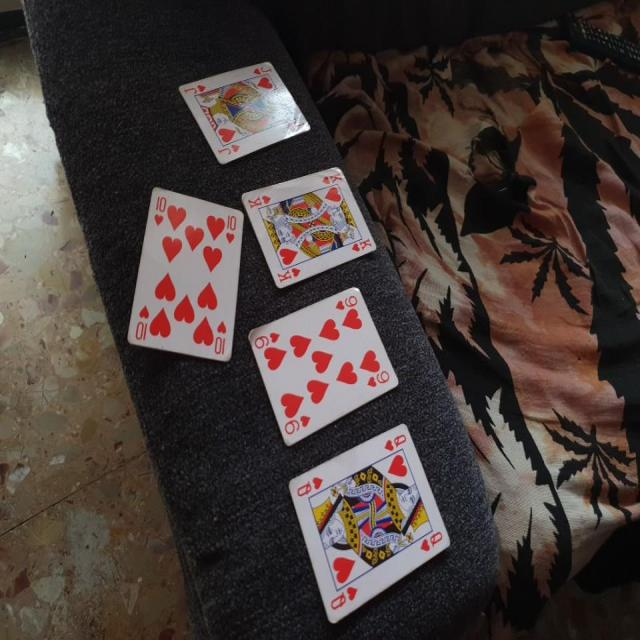10 Hearts: (119, 168, 247, 359)
9 Hearts: (242, 285, 412, 456)
J Hearts: (170, 53, 311, 170)
K Hearts: (239, 165, 380, 292)
Q Hearts: (285, 419, 457, 633)
